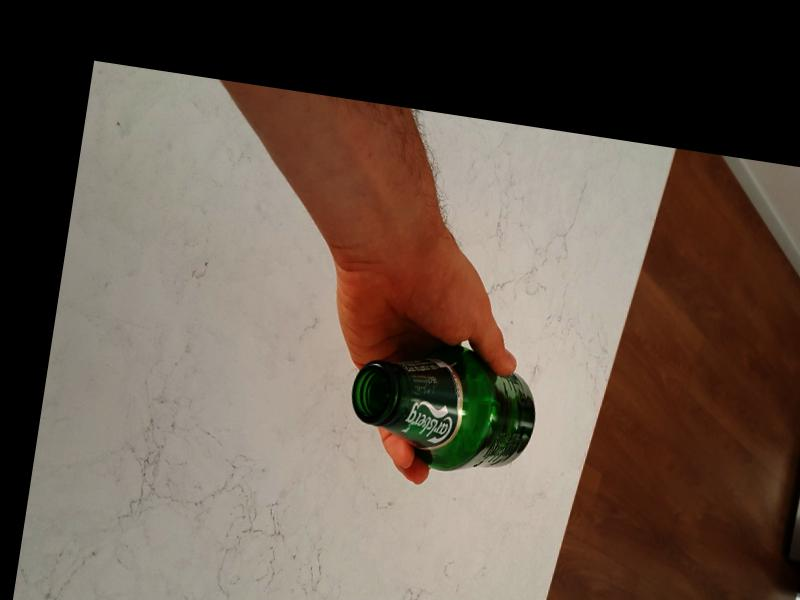Beer: (342, 333, 545, 481)
